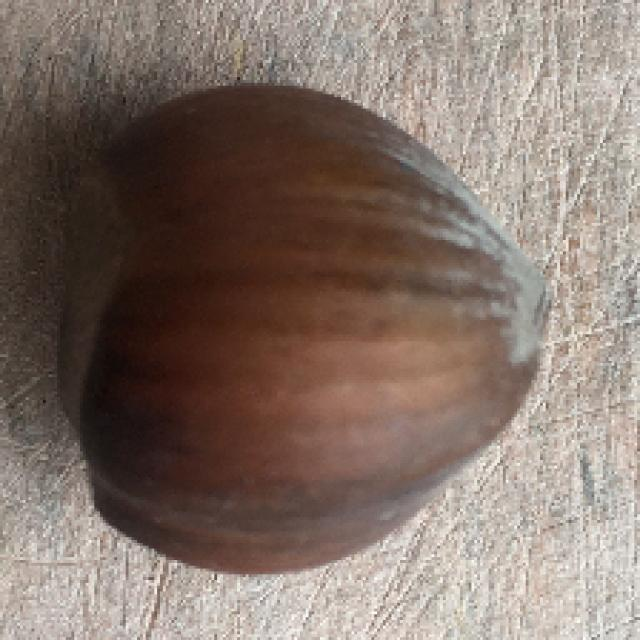qualityHazelnut: (74, 72, 554, 569)
